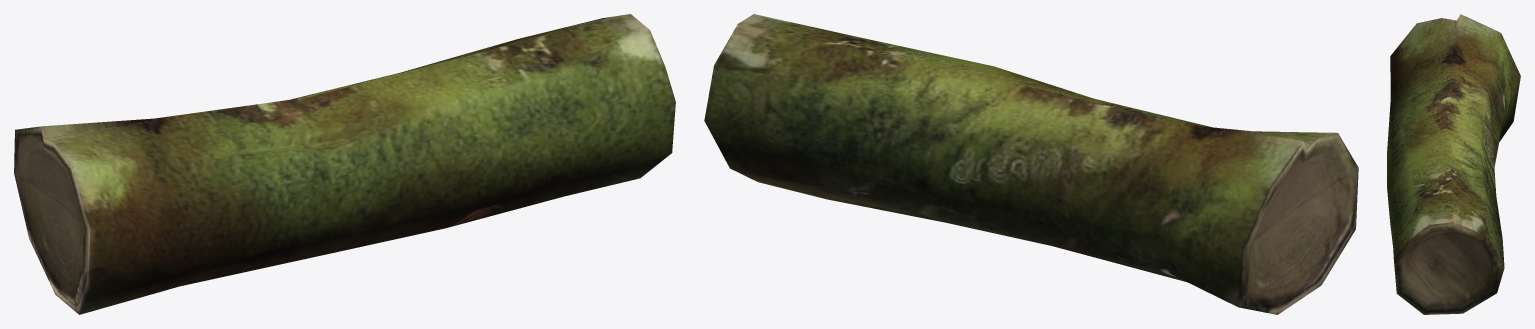
Rendered from WoodLog.fbx.
3 renders of one model, left to right at view 1: azimuth 30°, elevation 25°; view 2: azimuth 150°, elevation 25°; view 3: azimuth 270°, elevation 25°, orthographic. The views are drawn at different scales.
Parts seen in each view (by area): view 1: log; view 2: log; view 3: log.
Part boxes in pixels (box(x1,y1,x2,y2)): log: box(14, 14, 675, 314); log: box(704, 14, 1358, 314); log: box(1387, 14, 1520, 314).
Size of the model in its own units: 345 by 100 by 101.
